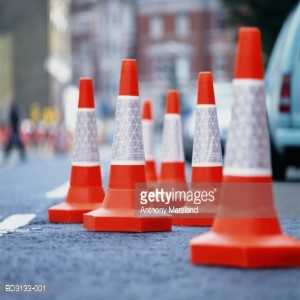traffic cone: (190, 26, 300, 268), (83, 59, 171, 232), (172, 70, 247, 227), (48, 77, 121, 222), (149, 88, 198, 215), (127, 100, 168, 206)
